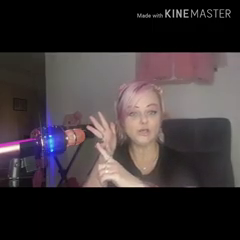U: (84, 109, 122, 188)
